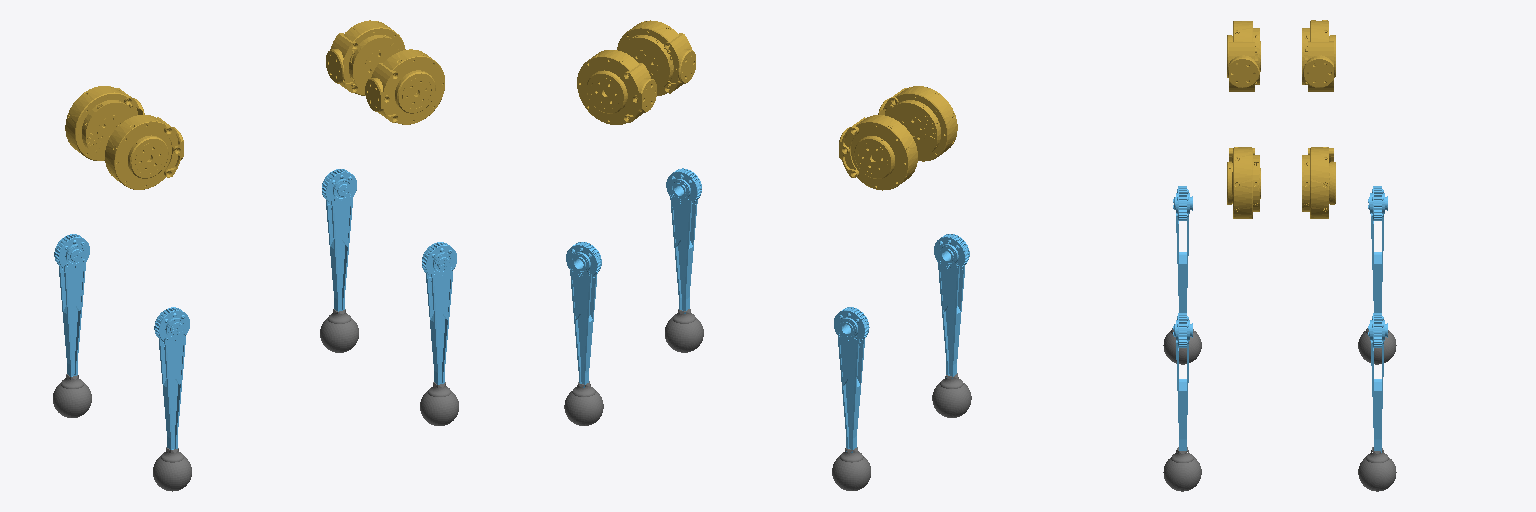
--- Facts derived from the render (not from the file) ---
3 views of the same robot in one strip: view 1: azimuth 30°, elevation 25°; view 2: azimuth 150°, elevation 25°; view 3: azimuth 270°, elevation 25° (orthographic).
Robot: yobotics_description — 25 links, 24 joints (12 revolute, 12 fixed); root link trunk; default pose: all joints at 0.
Visible links, largest first — view 1: RR_hip, FR_hip, FL_hip, RL_hip, RL_calf, RR_calf, FR_calf, FL_calf, RR_foot, FR_foot, FL_foot, RL_foot; view 2: RL_hip, FL_hip, FR_hip, RR_hip, FR_calf, RR_calf, RL_calf, FL_calf, RR_foot, FL_foot, FR_foot, RL_foot; view 3: FL_hip, RL_hip, FR_hip, RR_hip, FL_calf, FR_calf, RL_calf, RR_calf, FR_foot, FL_foot, RR_foot, RL_foot.
Link boxes in pixels (box(x1,y1,x2,y2)): RR_hip: box(105, 115, 183, 189); FR_hip: box(365, 49, 444, 124); FL_hip: box(326, 20, 405, 95); RL_hip: box(65, 86, 144, 160); RL_calf: box(54, 234, 89, 376); RR_calf: box(154, 307, 189, 449); FR_calf: box(422, 242, 456, 384); FL_calf: box(322, 169, 356, 311); RR_foot: box(153, 447, 191, 491); FR_foot: box(420, 382, 458, 425); FL_foot: box(320, 309, 358, 352); RL_foot: box(53, 374, 91, 417); RL_hip: box(839, 115, 917, 190); FL_hip: box(577, 50, 656, 124); FR_hip: box(617, 20, 695, 95); RR_hip: box(878, 86, 957, 161); FR_calf: box(666, 168, 701, 313); RR_calf: box(934, 234, 969, 378); RL_calf: box(834, 307, 869, 452); FL_calf: box(566, 242, 601, 387); RR_foot: box(932, 373, 971, 417); FL_foot: box(564, 381, 603, 425); FR_foot: box(665, 309, 703, 352); RL_foot: box(832, 447, 870, 490); FL_hip: box(1302, 147, 1335, 218); RL_hip: box(1302, 20, 1335, 91); FR_hip: box(1227, 147, 1260, 218); RR_hip: box(1227, 21, 1260, 91); FL_calf: box(1368, 313, 1387, 452); FR_calf: box(1173, 313, 1192, 450); RL_calf: box(1368, 186, 1387, 312); RR_calf: box(1173, 186, 1192, 312); FR_foot: box(1163, 447, 1201, 491); FL_foot: box(1358, 447, 1396, 491); RR_foot: box(1163, 328, 1201, 364); RL_foot: box(1358, 328, 1396, 364).
Bounding box of the posed robot: 0.4859 × 0.3042 × 0.4881 m (x, y, z).
12 mesh visuals loaded from 7 distinct referenced files (3 binary STL); not drawn: 7 (reference not matched to a file when rendering).

The robot description file, URDF, robot "yobotics_description":
<?xml version="1.0" encoding="utf-8"?>
<!-- =================================================================================== -->
<!-- |    This document was autogenerated by xacro from ../xacro/robot.xacro           | -->
<!-- |    EDITING THIS FILE BY HAND IS NOT RECOMMENDED                                 | -->
<!-- =================================================================================== -->
<robot name="yobotics_description">
  <!-- joint limits -->
  <!-- <xacro:property name="damping" value="0"/>
    <xacro:property name="friction" value="0"/>
    <xacro:property name="hip_max" value="120"/>
    <xacro:property name="hip_min" value="-120"/>
    <xacro:property name="hip_velocity_max" value="52.4"/>
    <xacro:property name="hip_torque_max" value="20"/>
    <xacro:property name="thigh_max" value="270"/>
    <xacro:property name="thigh_min" value="-270"/>
    <xacro:property name="thigh_velocity_max" value="28.6"/>
    <xacro:property name="thigh_torque_max" value="55"/>
    <xacro:property name="calf_max" value="155"/>
    <xacro:property name="calf_min" value="-155"/>
    <xacro:property name="calf_velocity_max" value="28.6"/>
    <xacro:property name="calf_torque_max" value="55"/> -->
  <material name="black">
    <color rgba="0.0 0.0 0.0 1.0"/>
  </material>
  <material name="blue">
    <color rgba="0.0 0.0 0.8 1.0"/>
  </material>
  <material name="green">
    <color rgba="0.0 0.8 0.0 1.0"/>
  </material>
  <material name="grey">
    <color rgba="0.2 0.2 0.2 1.0"/>
  </material>
  <material name="silver">
    <color rgba="0.913725490196 0.913725490196 0.847058823529 1.0"/>
  </material>
  <material name="orange">
    <color rgba="1.0 0.423529411765 0.0392156862745 1.0"/>
  </material>
  <material name="brown">
    <color rgba="0.870588235294 0.811764705882 0.764705882353 1.0"/>
  </material>
  <material name="white_gray">
    <color rgba="0.823529411765 0.823529411765 0.823529411765 1.0"/>
  </material>
  <material name="gold">
    <color rgba="0.811764705882 0.678431372549 0.301960784314 1.0"/>
  </material>
  <material name="white_blue">
    <color rgba="0.462745098039 0.8 0.992156862745 1.0"/>
  </material>
  <material name="white_black">
    <color rgba="0.494117647059 0.494117647059 0.494117647059 1.0"/>
  </material>
  <material name="red">
    <color rgba="0.8 0.0 0.0 1.0"/>
  </material>
  <material name="white">
    <color rgba="1.0 1.0 1.0 1.0"/>
  </material>
  <!-- ros_control plugin -->
  <gazebo>
    <plugin filename="libgazebo_ros_control.so" name="gazebo_ros_control">
      <!-- <robotNamespace>/yobotics_gazebo</robotNamespace> -->
      <!-- <robotSimType>gazebo_ros_control/DefaultRobotHWSim</robotSimType> -->
    </plugin>
  </gazebo>
  <!-- Show the trajectory of trunk center. -->
  <gazebo>
    <plugin filename="libLinkPlot3DPlugin.so" name="3dplot">
      <frequency>10</frequency>
      <plot>
        <link>base</link>
        <pose>0 0 0 0 0 0</pose>
        <material>Gazebo/Yellow</material>
      </plot>
    </plugin>
  </gazebo>
  <gazebo>
    <plugin filename="libgazebo_ros_force.so" name="gazebo_ros_force">
      <bodyName>trunk</bodyName>
      <topicName>/apply_force/trunk</topicName>
    </plugin>
  </gazebo>
  <!-- <gazebo reference="imu_link">
        <gravity>true</gravity>
        <sensor name="_sensor" type="imu">
            <always_on>true</always_on>
            <update_rate>1000</update_rate>
            <visualize>true</visualize>
            <topic>__default_topic__</topic>
            <plugin filename="libgazebo_ros_imu_sensor.so" name="imu_plugin">
                <topicName>yobotic_imu</topicName>
                <bodyName>imu_link</bodyName>
                <updateRateHZ>1000.0</updateRateHZ>
                <gaussianNoise>0.0</gaussianNoise>
                <xyzOffset>0 0 0</xyzOffset>
                <rpyOffset>0 0 0</rpyOffset>
                <frameName>imu_link</frameName>
            </plugin>
            <pose>0 0 0 0 0 0</pose>
        </sensor>
    </gazebo> -->
  <gazebo>
    <plugin filename="libgazebo_ros_p3d.so" name="p3d_base_controller">
      <alwaysOn>true</alwaysOn>
      <updateRate>50.0</updateRate>
      <bodyName>trunk</bodyName>
      <topicName>yobotics_gazebo_ground_truth</topicName>
      <gaussianNoise>0.01</gaussianNoise>
      <frameName>world</frameName>
      <xyzOffsets>0 0 0</xyzOffsets>
      <rpyOffsets>0 0 0</rpyOffsets>
    </plugin>
  </gazebo>
  <gazebo>
    <plugin filename="libgazebo_ros_control.so" name="gazebo_ros_control">
      <legacyModeNS>true</legacyModeNS>
    </plugin>
  </gazebo>
  <!-- Foot contacts. -->
  <!-- <gazebo reference="FR_calf">
        <sensor name="FR_foot_contact" type="contact">
        <update_rate>100</update_rate>
        <plugin name="contactPlugin" filename="libyoboticsFootContactPlugin.so"/>
        <contact>
            <collision>FR_calf_fixed_joint_lump__FR_foot_collision_1</collision>
        </contact>
        </sensor>
    </gazebo>
    <gazebo reference="FL_calf">
        <sensor name="FL_foot_contact" type="contact">
        <update_rate>100</update_rate>
        <plugin name="contactPlugin" filename="libyoboticsFootContactPlugin.so"/>
        <contact>
            <collision>FL_calf_fixed_joint_lump__FL_foot_collision_1</collision>
        </contact>
        </sensor>
    </gazebo>
    <gazebo reference="RR_calf">
        <sensor name="RR_foot_contact" type="contact">
        <update_rate>100</update_rate>
        <plugin name="contactPlugin" filename="libyoboticsFootContactPlugin.so"/>
        <contact>
            <collision>RR_calf_fixed_joint_lump__RR_foot_collision_1</collision>
        </contact>
        </sensor>
    </gazebo>
    <gazebo reference="RL_calf">
        <sensor name="RL_foot_contact" type="contact">
        <update_rate>100</update_rate>
        <plugin name="contactPlugin" filename="libyoboticsFootContactPlugin.so"/>
        <contact>
            <collision>RL_calf_fixed_joint_lump__RL_foot_collision_1</collision>
        </contact>
        </sensor>
    </gazebo>   -->
  <!-- Visualization of Foot contacts. -->
  <!-- <gazebo reference="FR_foot">
        <visual>
            <plugin name="drawForcePlugin" filename="libyoboticsDrawForcePlugin.so">
                <topicName>FR_foot_contact</topicName>
            </plugin>
        </visual>
    </gazebo>
    <gazebo reference="FL_foot">
        <visual>
            <plugin name="drawForcePlugin" filename="libyoboticsDrawForcePlugin.so">
                <topicName>FL_foot_contact</topicName>
            </plugin>
        </visual>
    </gazebo>
    <gazebo reference="RR_foot">
        <visual>
            <plugin name="drawForcePlugin" filename="libyoboticsDrawForcePlugin.so">
                <topicName>RR_foot_contact</topicName>
            </plugin>
        </visual>
    </gazebo>
    <gazebo reference="RL_foot">
        <visual>
            <plugin name="drawForcePlugin" filename="libyoboticsDrawForcePlugin.so">
                <topicName>RL_foot_contact</topicName>
            </plugin>
        </visual>
    </gazebo>  -->
  <gazebo reference="base">
    <material>Gazebo/Green</material>
    <turnGravityOff>false</turnGravityOff>
  </gazebo>
  <gazebo reference="trunk">
    <mu1>0.9</mu1>
    <mu2>0.9</mu2>
    <kp value="1000000.0"/>
    <kd value="1.0"/>
  </gazebo>
  <gazebo reference="stick_link">
    <mu1>0.9</mu1>
    <mu2>0.9</mu2>
    <material>Gazebo/White</material>
  </gazebo>
  <gazebo reference="imu_link">
    <mu1>0.9</mu1>
    <mu2>0.9</mu2>
    <material>Gazebo/Red</material>
  </gazebo>
  <!-- FL leg -->
  <gazebo reference="FL_hip">
    <mu1>0.9</mu1>
    <mu2>0.9</mu2>
    <!-- <material>Gazebo/DarkGrey</material> -->
  </gazebo>
  <gazebo reference="FL_thigh">
    <mu1>0.9</mu1>
    <mu2>0.9</mu2>
    <self_collide>1</self_collide>
    <material>Gazebo/White</material>
    <kp value="1000000.0"/>
    <kd value="1.0"/>
  </gazebo>
  <gazebo reference="FL_calf">
    <mu1>0.9</mu1>
    <mu2>0.9</mu2>
    <self_collide>1</self_collide>
  </gazebo>
  <gazebo reference="FL_foot">
    <mu1>0.9</mu1>
    <mu2>0.9</mu2>
    <self_collide>1</self_collide>
    <material>Gazebo/DarkGrey</material>
    <kp value="1000000.0"/>
    <kd value="1.0"/>
  </gazebo>
  <!-- FR leg -->
  <gazebo reference="FR_hip">
    <mu1>0.9</mu1>
    <mu2>0.9</mu2>
    <!-- <material>Gazebo/DarkGrey</material> -->
  </gazebo>
  <gazebo reference="FR_thigh">
    <mu1>0.9</mu1>
    <mu2>0.9</mu2>
    <self_collide>1</self_collide>
    <material>Gazebo/White</material>
    <kp value="1000000.0"/>
    <kd value="1.0"/>
  </gazebo>
  <gazebo reference="FR_calf">
    <mu1>0.9</mu1>
    <mu2>0.9</mu2>
    <self_collide>1</self_collide>
  </gazebo>
  <gazebo reference="FR_foot">
    <mu1>0.9</mu1>
    <mu2>0.9</mu2>
    <self_collide>1</self_collide>
    <material>Gazebo/DarkGrey</material>
    <kp value="1000000.0"/>
    <kd value="1.0"/>
  </gazebo>
  <!-- RL leg -->
  <gazebo reference="RL_hip">
    <mu1>0.9</mu1>
    <mu2>0.9</mu2>
    <!-- <material>Gazebo/DarkGrey</material> -->
  </gazebo>
  <gazebo reference="RL_thigh">
    <mu1>0.9</mu1>
    <mu2>0.9</mu2>
    <self_collide>1</self_collide>
    <material>Gazebo/White</material>
    <kp value="1000000.0"/>
    <kd value="1.0"/>
  </gazebo>
  <gazebo reference="RL_calf">
    <mu1>0.9</mu1>
    <mu2>0.9</mu2>
    <self_collide>1</self_collide>
  </gazebo>
  <gazebo reference="RL_foot">
    <mu1>0.9</mu1>
    <mu2>0.9</mu2>
    <self_collide>1</self_collide>
    <material>Gazebo/DarkGrey</material>
    <kp value="1000000.0"/>
    <kd value="1.0"/>
  </gazebo>
  <!-- RR leg -->
  <gazebo reference="RR_hip">
    <mu1>0.9</mu1>
    <mu2>0.9</mu2>
    <!-- <material>Gazebo/Gold</material> -->
  </gazebo>
  <gazebo reference="RR_thigh">
    <mu1>0.9</mu1>
    <mu2>0.9</mu2>
    <self_collide>1</self_collide>
    <material>Gazebo/White</material>
    <kp value="1000000.0"/>
    <kd value="1.0"/>
  </gazebo>
  <gazebo reference="RR_calf">
    <mu1>0.9</mu1>
    <mu2>0.9</mu2>
    <self_collide>1</self_collide>
  </gazebo>
  <gazebo reference="RR_foot">
    <mu1>0.9</mu1>
    <mu2>0.9</mu2>
    <self_collide>1</self_collide>
    <material>Gazebo/DarkGrey</material>
    <kp value="1000000.0"/>
    <kd value="1.0"/>
  </gazebo>
  <!-- Debug mode will hung up the robot, use "true" or "false" to switch it. -->
  <!-- <link name="base_link">
        <visual>
            <origin rpy="0 0 0" xyz="0 0 0"/>
            <geometry>
                <box size="0.001 0.001 0.001"/>
            </geometry>
        </visual>
    </link>

    <joint name="floating_base" type="fixed">
        <origin rpy="0 0 0" xyz="0 0 0"/>
        <parent link="base_link"/>
        <child link="trunk"/>
    </joint> -->
  <link name="trunk"/>
  <link name="trunk_interia">
    <visual>
      <origin rpy="0 0 0" xyz="0 0 0"/>
      <geometry>
        <mesh filename="package://yobotics_description/meshes/trunk.STL" scale="1 1 1"/>
      </geometry>
      <material name="white_gray"/>
    </visual>
    <collision>
      <origin rpy="0 0 0" xyz="0 0 0"/>
      <geometry>
        <!-- <mesh filename="package://yobotics_description/meshes/trunk.STL" scale="1 1 1"/> -->
        <box size="0.3 0.2 0.093"/>
      </geometry>
    </collision>
    <inertial>
      <origin rpy="0 0 0" xyz="0.0 0.0 0.0"/>
      <mass value="3.3"/>
      <inertia ixx="0.011253" ixy="0" ixz="0.0" iyy="0.036203" iyz="-0.0" izz="0.042673"/>
    </inertial>
  </link>
  <joint name="trunk_to_trunk_inertia" type="fixed">
    <origin rpy="0 0 0" xyz="0 0 0"/>
    <parent link="trunk"/>
    <child link="trunk_interia"/>
  </joint>
  <!-- 
    <joint name="imu_joint" type="fixed">
        <parent link="trunk"/>
        <child link="imu_link"/>
        <origin rpy="0 0 0" xyz="0 0 0"/>
    </joint>

    <link name="imu_link">
        <inertial>
            <mass value="0.001"/>
            <origin rpy="0 0 0" xyz="0 0 0"/>
            <inertia ixx="0.0001" ixy="0" ixz="0" iyy="0.000001" iyz="0" izz="0.0001"/>
        </inertial>
        <visual>
            <origin rpy="0 0 0" xyz="0 0 0"/>
            <geometry>
                <box size="0.001 0.001 0.001"/>
            </geometry>
            <material name="red"/>
        </visual>
        <collision>
            <origin rpy="0 0 0" xyz="0 0 0"/>
            <geometry>
                <box size=".001 .001 .001"/>
            </geometry>
        </collision>
    </link> -->
  <!-- //////////////////////hip//////////////////// -->
  <joint name="RL_hip_joint" type="revolute">
    <!-- <joint name="${name}_hip_joint" type="continuous"> -->
    <origin rpy="0 0 0" xyz="-0.196 0.049664 0"/>
    <parent link="trunk"/>
    <child link="RL_hip"/>
    <axis xyz="1 0 0"/>
    <dynamics damping="0" friction="0"/>
    <limit effort="20" lower="-0.872664625997" upper="1.0471975512" velocity="10.6"/>
  </joint>
  <link name="RL_hip">
    <visual>
      <origin rpy="3.14159265359 0 0" xyz="0 0 0"/>
      <geometry>
        <mesh filename="package://yobotics_description/meshes/hip.STL" scale="1 1 1"/>
      </geometry>
      <material name="gold"/>
    </visual>
    <collision>
      <!-- <origin rpy="${PI/2.0} 0 0" xyz="0 0 0"/> -->
      <!-- <xacro:if value="${(mirror_dae == True) and (front_hind_dae == True)}">
                    <origin rpy="0 0 0" xyz="0 0 0"/>
                </xacro:if>
                <xacro:if value="${(mirror_dae == False) and (front_hind_dae == True)}">
                    <origin rpy="${PI} 0 0" xyz="0 0 0"/>
                </xacro:if>
                <xacro:if value="${(mirror_dae == True) and (front_hind_dae == False)}">
                    <origin rpy="0 ${PI} 0" xyz="0 0 0"/>
                </xacro:if>
                <xacro:if value="${(mirror_dae == False) and (front_hind_dae == False)}">
                    <origin rpy="${PI} ${PI} 0" xyz="0 0 0"/>
                </xacro:if> -->
      <geometry>
        <!-- <mesh filename="package://yobotics_description/meshes/hip.STL" scale="1 1 1"/> -->
        <box size="0.09 0.08 0.093"/>
      </geometry>
    </collision>
    <inertial>
      <origin rpy="0 0 0" xyz="0.0 -0.036 0.0"/>
      <mass value="0.57"/>
      <inertia ixx="0.0007148275" ixy="0.0" ixz="0.0" iyy="0.0007955775" iyz="0.0" izz="0.00068875"/>
    </inertial>
  </link>
  <!-- //////////////////////thigh//////////////////// -->
  <joint name="RL_thigh_joint" type="revolute">
    <!-- <joint name="${name}_thigh_joint" type="continuous"> -->
    <origin rpy="0 0 0" xyz="0 0.077476 0"/>
    <parent link="RL_hip"/>
    <child link="RL_thigh"/>
    <axis xyz="0 1 0"/>
    <dynamics damping="0" friction="0"/>
    <limit effort="20" lower="-0.523598775598" upper="3.92699081699" velocity="10.6"/>
  </joint>
  <link name="RL_thigh">
    <visual>
      <origin rpy="3.14159265359 3.14159265359 0" xyz="0 0 0"/>
      <geometry>
        <mesh filename="package://yobotics_description/meshes/thigh.STL" scale="1 1 1"/>
      </geometry>
      <material name="white_blue"/>
    </visual>
    <collision>
      <!-- <xacro:if value="${mirror_dae == True}">
                    <origin rpy="0 0 0" xyz="0 0 0"/>                 
                </xacro:if>
                <xacro:if value="${mirror_dae == False}">
                    <origin rpy="${PI} ${PI} 0" xyz="0 0 0"/>
                </xacro:if> -->
      <origin rpy="0 0 0" xyz="0 0 -0.11"/>
      <geometry>
        <box size="0.043 0.034 0.22"/>
        <!-- <mesh filename="package://yobotics_description/meshes/thigh.STL" scale="1 1 1"/> -->
      </geometry>
      <material name="white_blue"/>
    </collision>
    <inertial>
      <origin rpy="0 0 0" xyz="0.0 -0.016 -0.11"/>
      <mass value="0.634"/>
      <inertia ixx="0.00261820866667" ixy="0.0" ixz="0.0" iyy="0.00265482216667" iyz="0.0" izz="0.000158764166667"/>
    </inertial>
  </link>
  <!-- //////////////////////calf//////////////////// -->
  <joint name="RL_calf_joint" type="revolute">
    <!-- <joint name="${name}_calf_joint" type="continuous"> -->
    <origin rpy="0 0 0" xyz="0 0 -0.2115"/>
    <parent link="RL_thigh"/>
    <child link="RL_calf"/>
    <axis xyz="0 1 0"/>
    <dynamics damping="0" friction="0"/>
    <!-- <limit effort="${calf_torque_max}" velocity="${calf_velocity_max}" lower="${calf_min*PI/180.0}" upper="${calf_max*PI/180.0}"/> -->
    <limit effort="20" lower="-3.14159265359" upper="3.14159265359" velocity="10.6"/>
  </joint>
  <link name="RL_calf">
    <visual>
      <origin rpy="0 0 0" xyz="0.0 0.009 0.0"/>
      <geometry>
        <mesh filename="package://yobotics_description/meshes/calf.STL" scale="1 1 1"/>
      </geometry>
      <material name="white_blue"/>
    </visual>
    <collision>
      <origin rpy="0 0 0" xyz="0.0 0.0 -0.1"/>
      <geometry>
        <box size="0.016 0.016 0.2"/>
        <!-- <mesh filename="package://yobotics_description/meshes/calf.STL" scale="1 1 1"/> -->
      </geometry>
    </collision>
    <inertial>
      <origin rpy="0 0 0" xyz="0.0 0.0 0.0"/>
      <mass value="0.064"/>
      <inertia ixx="0.000214698666667" ixy="0.0" ixz="0.0" iyy="0.000214698666667" iyz="0.0" izz="2.73066666667e-06"/>
    </inertial>
  </link>
  <!-- //////////////////////foot//////////////////// -->
  <joint name="RL_foot_fixed" type="fixed">
    <origin rpy="0 0 0" xyz="0 0 -0.23039"/>
    <parent link="RL_calf"/>
    <child link="RL_foot"/>
  </joint>
  <link name="RL_foot">
    <visual>
      <origin rpy="0 0 0" xyz="0 0.018 0.02"/>
      <geometry>
        <mesh filename="package://yobotics_description/meshes/foot.STL" scale="1 1 1"/>
      </geometry>
      <material name="white_black"/>
    </visual>
    <collision>
      <origin rpy="0 0 0" xyz="0 0.0 0.025"/>
      <geometry>
        <!-- <mesh filename="package://yobotics_description/meshes/foot.STL" scale="1 1 1"/> -->
        <sphere radius="0.025"/>
      </geometry>
    </collision>
    <inertial>
      <origin rpy="0 0 0" xyz="0.0 0.0 0"/>
      <mass value="0.15"/>
      <inertia ixx="4.2135e-05" ixy="0.0" ixz="0.0" iyy="4.2135e-05" iyz="0.0" izz="4.2135e-05"/>
    </inertial>
  </link>
  <transmission name="RL_hip_tran">
    <type>transmission_interface/SimpleTransmission</type>
    <joint name="RL_hip_joint">
      <hardwareInterface>hardware_interface/EffortJointInterface</hardwareInterface>
    </joint>
    <actuator name="RL_hip_motor">
      <hardwareInterface>hardware_interface/EffortJointInterface</hardwareInterface>
      <mechanicalReduction>1</mechanicalReduction>
    </actuator>
  </transmission>
  <transmission name="RL_thigh_tran">
    <type>transmission_interface/SimpleTransmission</type>
    <joint name="RL_thigh_joint">
      <hardwareInterface>hardware_interface/EffortJointInterface</hardwareInterface>
    </joint>
    <actuator name="RL_thigh_motor">
      <hardwareInterface>hardware_interface/EffortJointInterface</hardwareInterface>
      <mechanicalReduction>1</mechanicalReduction>
    </actuator>
  </transmission>
  <transmission name="RL_calf_tran">
    <type>transmission_interface/SimpleTransmission</type>
    <joint name="RL_calf_joint">
      <hardwareInterface>hardware_interface/EffortJointInterface</hardwareInterface>
    </joint>
    <actuator name="RL_calf_motor">
      <hardwareInterface>hardware_interface/EffortJointInterface</hardwareInterface>
      <mechanicalReduction>1</mechanicalReduction>
    </actuator>
  </transmission>
  <!-- //////////////////////hip//////////////////// -->
  <joint name="FL_hip_joint" type="revolute">
    <!-- <joint name="${name}_hip_joint" type="continuous"> -->
    <origin rpy="0 0 0" xyz="0.196 0.049664 0"/>
    <parent link="trunk"/>
    <child link="FL_hip"/>
    <axis xyz="1 0 0"/>
    <dynamics damping="0" friction="0"/>
    <limit effort="20" lower="-0.872664625997" upper="1.0471975512" velocity="10.6"/>
  </joint>
  <link name="FL_hip">
    <visual>
      <origin rpy="3.14159265359 3.14159265359 0" xyz="0 0 0"/>
      <geometry>
        <mesh filename="package://yobotics_description/meshes/hip.STL" scale="1 1 1"/>
      </geometry>
      <material name="gold"/>
    </visual>
    <collision>
      <!-- <origin rpy="${PI/2.0} 0 0" xyz="0 0 0"/> -->
      <!-- <xacro:if value="${(mirror_dae == True) and (front_hind_dae == True)}">
                    <origin rpy="0 0 0" xyz="0 0 0"/>
                </xacro:if>
                <xacro:if value="${(mirror_dae == False) and (front_hind_dae == True)}">
                    <origin rpy="${PI} 0 0" xyz="0 0 0"/>
                </xacro:if>
                <xacro:if value="${(mirror_dae == True) and (front_hind_dae == False)}">
                    <origin rpy="0 ${PI} 0" xyz="0 0 0"/>
                </xacro:if>
                <xacro:if value="${(mirror_dae == False) and (front_hind_dae == False)}">
                    <origin rpy="${PI} ${PI} 0" xyz="0 0 0"/>
                </xacro:if> -->
      <geometry>
        <!-- <mesh filename="package://yobotics_description/meshes/hip.STL" scale="1 1 1"/> -->
        <box size="0.09 0.08 0.093"/>
      </geometry>
    </collision>
    <inertial>
      <origin rpy="0 0 0" xyz="-0.0 -0.036 0.0"/>
      <mass value="0.57"/>
      <inertia ixx="0.0007148275" ixy="0.0" ixz="0.0" iyy="0.0007955775" iyz="0.0" izz="0.00068875"/>
    </inertial>
  </link>
  <!-- //////////////////////thigh//////////////////// -->
  <joint name="FL_thigh_joint" type="revolute">
    <!-- <joint name="${name}_thigh_joint" type="continuous"> -->
    <origin rpy="0 0 0" xyz="0 0.077476 0"/>
    <parent link="FL_hip"/>
    <child link="FL_thigh"/>
    <axis xyz="0 1 0"/>
    <dynamics damping="0" friction="0"/>
    <limit effort="20" lower="-0.523598775598" upper="3.92699081699" velocity="10.6"/>
  </joint>
  <link name="FL_thigh">
    <visual>
      <origin rpy="3.14159265359 3.14159265359 0" xyz="0 0 0"/>
      <geometry>
        <mesh filename="package://yobotics_description/meshes/thigh.STL" scale="1 1 1"/>
      </geometry>
      <material name="white_blue"/>
    </visual>
    <collision>
      <!-- <xacro:if value="${mirror_dae == True}">
                    <origin rpy="0 0 0" xyz="0 0 0"/>                 
                </xacro:if>
                <xacro:if value="${mirror_dae == False}">
                    <origin rpy="${PI} ${PI} 0" xyz="0 0 0"/>
                </xacro:if> -->
      <origin rpy="0 0 0" xyz="0 0 -0.11"/>
      <geometry>
        <box size="0.043 0.034 0.22"/>
        <!-- <mesh filename="package://yobotics_description/meshes/thigh.STL" scale="1 1 1"/> -->
      </geometry>
      <material name="white_blue"/>
    </collision>
    <inertial>
      <origin rpy="0 0 0" xyz="0.0 -0.016 -0.11"/>
      <mass value="0.634"/>
      <inertia ixx="0.00261820866667" ixy="0.0" ixz="0.0" iyy="0.00265482216667" iyz="0.0" izz="0.000158764166667"/>
    </inertial>
  </link>
  <!-- //////////////////////calf//////////////////// -->
  <joint name="FL_calf_joint" type="revolute">
    <!-- <joint name="${name}_calf_joint" type="continuous"> -->
    <origin rpy="0 0 0" xyz="0 0 -0.2115"/>
    <parent link="FL_thigh"/>
    <child link="FL_calf"/>
    <axis xyz="0 1 0"/>
    <dynamics damping="0" friction="0"/>
    <!-- <limit effort="${calf_torque_max}" velocity="${calf_velocity_max}" lower="${calf_min*PI/180.0}" upper="${calf_max*PI/180.0}"/> -->
    <limit effort="20" lower="-3.14159265359" upper="3.14159265359" velocity="10.6"/>
  </joint>
  <link name="FL_calf">
    <visual>
      <origin rpy="0 0 0" xyz="0.0 0.009 0.0"/>
      <geometry>
        <mesh filename="package://yobotics_description/meshes/calf.STL" scale="1 1 1"/>
      </geometry>
      <material name="white_blue"/>
    </visual>
    <collision>
      <origin rpy="0 0 0" xyz="0.0 0.0 -0.1"/>
      <geometry>
        <box size="0.016 0.016 0.2"/>
        <!-- <mesh filename="package://yobotics_description/meshes/calf.STL" scale="1 1 1"/> -->
      </geometry>
    </collision>
    <inertial>
      <origin rpy="0 0 0" xyz="0.0 0.0 0.0"/>
      <mass value="0.064"/>
      <inertia ixx="0.000214698666667" ixy="0.0" ixz="0.0" iyy="0.000214698666667" iyz="0.0" izz="2.73066666667e-06"/>
    </inertial>
  </link>
  <!-- //////////////////////foot//////////////////// -->
  <joint name="FL_foot_fixed" type="fixed">
    <origin rpy="0 0 0" xyz="0 0 -0.23039"/>
    <parent link="FL_calf"/>
    <child link="FL_foot"/>
  </joint>
  <link name="FL_foot">
    <visual>
      <origin rpy="0 0 0" xyz="0 0.018 0.02"/>
      <geometry>
        <mesh filename="package://yobotics_description/meshes/foot.STL" scale="1 1 1"/>
      </geometry>
      <material name="white_black"/>
    </visual>
    <collision>
      <origin rpy="0 0 0" xyz="0 0.0 0.025"/>
      <geometry>
        <!-- <mesh filename="package://yobotics_description/meshes/foot.STL" scale="1 1 1"/> -->
        <sphere radius="0.025"/>
      </geometry>
    </collision>
    <inertial>
      <origin rpy="0 0 0" xyz="0.0 0.0 0"/>
      <mass value="0.15"/>
      <inertia ixx="4.2135e-05" ixy="0.0" ixz="0.0" iyy="4.2135e-05" iyz="0.0" izz="4.2135e-05"/>
    </inertial>
  </link>
  <transmission name="FL_hip_tran">
    <type>transmission_interface/SimpleTransmission</type>
    <joint name="FL_hip_joint">
      <hardwareInterface>hardware_interface/EffortJointInterface</hardwareInterface>
    </joint>
    <actuator name="FL_hip_motor">
      <hardwareInterface>hardware_interface/EffortJointInterface</hardwareInterface>
      <mechanicalReduction>1</mechanicalReduction>
    </actuator>
  </transmission>
  <transmission name="FL_thigh_tran">
    <type>transmission_interface/SimpleTransmission</type>
    <joint name="FL_thigh_joint">
      <hardwareInterface>hardware_interface/EffortJointInterface</hardwareInterface>
    </joint>
    <actuator name="FL_thigh_motor">
      <hardwareInterface>hardware_interface/EffortJointInterface</hardwareInterface>
      <mechanicalReduction>1</mechanicalReduction>
    </actuator>
  </transmission>
  <transmission name="FL_calf_tran">
    <type>transmission_interface/SimpleTransmission</type>
    <joint name="FL_calf_joint">
      <hardwareInterface>hardware_interface/EffortJointInterface</hardwareInterface>
    </joint>
    <actuator name="FL_calf_motor">
      <hardwareInterface>hardware_interface/EffortJointInterface</hardwareInterface>
      <mechanicalReduction>1</mechanicalReduction>
    </actuator>
  </transmission>
  <!-- //////////////////////hip//////////////////// -->
  <joint name="RR_hip_joint" type="revolute">
    <!-- <joint name="${name}_hip_joint" type="continuous"> -->
    <origin rpy="0 0 0" xyz="-0.196 -0.049664 0"/>
    <parent link="trunk"/>
    <child link="RR_hip"/>
    <axis xyz="1 0 0"/>
    <dynamics damping="0" friction="0"/>
    <limit effort="20" lower="-1.0471975512" upper="0.872664625997" velocity="10.6"/>
  </joint>
  <link name="RR_hip">
    <visual>
      <origin rpy="0 0 0" xyz="0 0 0"/>
      <geometry>
        <mesh filename="package://yobotics_description/meshes/hip.STL" scale="1 1 1"/>
      </geometry>
      <material name="gold"/>
    </visual>
    <collision>
      <!-- <origin rpy="${PI/2.0} 0 0" xyz="0 0 0"/> -->
      <!-- <xacro:if value="${(mirror_dae == True) and (front_hind_dae == True)}">
                    <origin rpy="0 0 0" xyz="0 0 0"/>
                </xacro:if>
                <xacro:if value="${(mirror_dae == False) and (front_hind_dae == True)}">
                    <origin rpy="${PI} 0 0" xyz="0 0 0"/>
                </xacro:if>
                <xacro:if value="${(mirror_dae == True) and (front_hind_dae == False)}">
                    <origin rpy="0 ${PI} 0" xyz="0 0 0"/>
                </xacro:if>
                <xacro:if value="${(mirror_dae == False) and (front_hind_dae == False)}">
                    <origin rpy="${PI} ${PI} 0" xyz="0 0 0"/>
                </xacro:if> -->
      <geometry>
        <!-- <mesh filename="package://yobotics_description/meshes/hip.STL" scale="1 1 1"/> -->
        <box size="0.09 0.08 0.093"/>
      </geometry>
    </collision>
    <inertial>
      <origin rpy="0 0 0" xyz="0.0 0.036 0.0"/>
      <mass value="0.57"/>
      <inertia ixx="0.0007148275" ixy="0.0" ixz="0.0" iyy="0.0007955775" iyz="0.0" izz="0.00068875"/>
    </inertial>
  </link>
  <!-- //////////////////////thigh//////////////////// -->
  <joint name="RR_thigh_joint" type="revolute">
    <!-- <joint name="${name}_thigh_joint" type="continuous"> -->
    <origin rpy="0 0 0" xyz="0 -0.077476 0"/>
    <parent link="RR_hip"/>
    <child link="RR_thigh"/>
    <axis xyz="0 1 0"/>
    <dynamics damping="0" friction="0"/>
    <limit effort="20" lower="-0.523598775598" upper="3.92699081699" velocity="10.6"/>
  </joint>
  <link name="RR_thigh">
    <visual>
      <origin rpy="0 0 0" xyz="0 0 0"/>
      <geometry>
        <mesh filename="package://yobotics_description/meshes/thigh.STL" scale="1 1 1"/>
      </geometry>
      <material name="white_blue"/>
    </visual>
    <collision>
      <!-- <xacro:if value="${mirror_dae == True}">
                    <origin rpy="0 0 0" xyz="0 0 0"/>                 
                </xacro:if>
                <xacro:if value="${mirror_dae == False}">
                    <origin rpy="${PI} ${PI} 0" xyz="0 0 0"/>
                </xacro:if> -->
      <origin rpy="0 0 0" xyz="0 0 -0.11"/>
      <geometry>
        <box size="0.043 0.034 0.22"/>
        <!-- <mesh filename="package://yobotics_description/meshes/thigh.STL" scale="1 1 1"/> -->
      </geometry>
      <material name="white_blue"/>
    </collision>
    <inertial>
      <origin rpy="0 0 0" xyz="0.0 0.016 -0.11"/>
      <mass value="0.634"/>
      <inertia ixx="0.00261820866667" ixy="0.0" ixz="0.0" iyy="0.00265482216667" iyz="0.0" izz="0.000158764166667"/>
    </inertial>
  </link>
  <!-- //////////////////////calf//////////////////// -->
  <joint name="RR_calf_joint" type="revolute">
    <!-- <joint name="${name}_calf_joint" type="continuous"> -->
    <origin rpy="0 0 0" xyz="0 0 -0.2115"/>
    <parent link="RR_thigh"/>
    <child link="RR_calf"/>
    <axis xyz="0 1 0"/>
    <dynamics damping="0" friction="0"/>
    <!-- <limit effort="${calf_torque_max}" velocity="${calf_velocity_max}" lower="${calf_min*PI/180.0}" upper="${calf_max*PI/180.0}"/> -->
    <limit effort="20" lower="-3.14159265359" upper="3.14159265359" velocity="10.6"/>
  </joint>
  <link name="RR_calf">
    <visual>
      <origin rpy="0 0 0" xyz="0.0 0.009 0.0"/>
      <geometry>
        <mesh filename="package://yobotics_description/meshes/calf.STL" scale="1 1 1"/>
      </geometry>
      <material name="white_blue"/>
    </visual>
    <collision>
      <origin rpy="0 0 0" xyz="0.0 0.0 -0.1"/>
      <geometry>
        <box size="0.016 0.016 0.2"/>
        <!-- <mesh filename="package://yobotics_description/meshes/calf.STL" scale="1 1 1"/> -->
      </geometry>
    </collision>
    <inertial>
      <origin rpy="0 0 0" xyz="0.0 0.0 0.0"/>
      <mass value="0.064"/>
      <inertia ixx="0.000214698666667" ixy="0.0" ixz="0.0" iyy="0.000214698666667" iyz="0.0" izz="2.73066666667e-06"/>
    </inertial>
  </link>
  <!-- //////////////////////foot//////////////////// -->
  <joint name="RR_foot_fixed" type="fixed">
    <origin rpy="0 0 0" xyz="0 0 -0.23039"/>
    <parent link="RR_calf"/>
    <child link="RR_foot"/>
  </joint>
  <link name="RR_foot">
    <visual>
      <origin rpy="0 0 0" xyz="0 0.018 0.02"/>
      <geometry>
        <mesh filename="package://yobotics_description/meshes/foot.STL" scale="1 1 1"/>
      </geometry>
      <material name="white_black"/>
    </visual>
    <collision>
      <origin rpy="0 0 0" xyz="0 0.0 0.025"/>
      <geometry>
        <!-- <mesh filename="package://yobotics_description/meshes/foot.STL" scale="1 1 1"/> -->
        <sphere radius="0.025"/>
      </geometry>
    </collision>
    <inertial>
      <origin rpy="0 0 0" xyz="0.0 0.0 0"/>
      <mass value="0.15"/>
      <inertia ixx="4.2135e-05" ixy="0.0" ixz="0.0" iyy="4.2135e-05" iyz="0.0" izz="4.2135e-05"/>
    </inertial>
  </link>
  <transmission name="RR_hip_tran">
    <type>transmission_interface/SimpleTransmission</type>
    <joint name="RR_hip_joint">
      <hardwareInterface>hardware_interface/EffortJointInterface</hardwareInterface>
    </joint>
    <actuator name="RR_hip_motor">
      <hardwareInterface>hardware_interface/EffortJointInterface</hardwareInterface>
      <mechanicalReduction>1</mechanicalReduction>
    </actuator>
  </transmission>
  <transmission name="RR_thigh_tran">
    <type>transmission_interface/SimpleTransmission</type>
    <joint name="RR_thigh_joint">
      <hardwareInterface>hardware_interface/EffortJointInterface</hardwareInterface>
    </joint>
    <actuator name="RR_thigh_motor">
      <hardwareInterface>hardware_interface/EffortJointInterface</hardwareInterface>
      <mechanicalReduction>1</mechanicalReduction>
    </actuator>
  </transmission>
  <transmission name="RR_calf_tran">
    <type>transmission_interface/SimpleTransmission</type>
    <joint name="RR_calf_joint">
      <hardwareInterface>hardware_interface/EffortJointInterface</hardwareInterface>
    </joint>
    <actuator name="RR_calf_motor">
      <hardwareInterface>hardware_interface/EffortJointInterface</hardwareInterface>
      <mechanicalReduction>1</mechanicalReduction>
    </actuator>
  </transmission>
  <!-- //////////////////////hip//////////////////// -->
  <joint name="FR_hip_joint" type="revolute">
    <!-- <joint name="${name}_hip_joint" type="continuous"> -->
    <origin rpy="0 0 0" xyz="0.196 -0.049664 0"/>
    <parent link="trunk"/>
    <child link="FR_hip"/>
    <axis xyz="1 0 0"/>
    <dynamics damping="0" friction="0"/>
    <limit effort="20" lower="-1.0471975512" upper="0.872664625997" velocity="10.6"/>
  </joint>
  <link name="FR_hip">
    <visual>
      <origin rpy="0 3.14159265359 0" xyz="0 0 0"/>
      <geometry>
        <mesh filename="package://yobotics_description/meshes/hip.STL" scale="1 1 1"/>
      </geometry>
      <material name="gold"/>
    </visual>
    <collision>
      <!-- <origin rpy="${PI/2.0} 0 0" xyz="0 0 0"/> -->
      <!-- <xacro:if value="${(mirror_dae == True) and (front_hind_dae == True)}">
                    <origin rpy="0 0 0" xyz="0 0 0"/>
                </xacro:if>
                <xacro:if value="${(mirror_dae == False) and (front_hind_dae == True)}">
                    <origin rpy="${PI} 0 0" xyz="0 0 0"/>
                </xacro:if>
                <xacro:if value="${(mirror_dae == True) and (front_hind_dae == False)}">
                    <origin rpy="0 ${PI} 0" xyz="0 0 0"/>
                </xacro:if>
                <xacro:if value="${(mirror_dae == False) and (front_hind_dae == False)}">
                    <origin rpy="${PI} ${PI} 0" xyz="0 0 0"/>
                </xacro:if> -->
      <geometry>
        <!-- <mesh filename="package://yobotics_description/meshes/hip.STL" scale="1 1 1"/> -->
        <box size="0.09 0.08 0.093"/>
      </geometry>
    </collision>
    <inertial>
      <origin rpy="0 0 0" xyz="-0.0 0.036 0.0"/>
      <mass value="0.57"/>
      <inertia ixx="0.0007148275" ixy="0.0" ixz="0.0" iyy="0.0007955775" iyz="0.0" izz="0.00068875"/>
    </inertial>
  </link>
  <!-- //////////////////////thigh//////////////////// -->
  <joint name="FR_thigh_joint" type="revolute">
    <!-- <joint name="${name}_thigh_joint" type="continuous"> -->
    <origin rpy="0 0 0" xyz="0 -0.077476 0"/>
    <parent link="FR_hip"/>
    <child link="FR_thigh"/>
    <axis xyz="0 1 0"/>
    <dynamics damping="0" friction="0"/>
    <limit effort="20" lower="-0.523598775598" upper="3.92699081699" velocity="10.6"/>
  </joint>
  <link name="FR_thigh">
    <visual>
      <origin rpy="0 0 0" xyz="0 0 0"/>
      <geometry>
        <mesh filename="package://yobotics_description/meshes/thigh.STL" scale="1 1 1"/>
      </geometry>
      <material name="white_blue"/>
    </visual>
    <collision>
      <!-- <xacro:if value="${mirror_dae == True}">
                    <origin rpy="0 0 0" xyz="0 0 0"/>                 
                </xacro:if>
                <xacro:if value="${mirror_dae == False}">
                    <origin rpy="${PI} ${PI} 0" xyz="0 0 0"/>
                </xacro:if> -->
      <origin rpy="0 0 0" xyz="0 0 -0.11"/>
      <geometry>
        <box size="0.043 0.034 0.22"/>
        <!-- <mesh filename="package://yobotics_description/meshes/thigh.STL" scale="1 1 1"/> -->
      </geometry>
      <material name="white_blue"/>
    </collision>
    <inertial>
      <origin rpy="0 0 0" xyz="0.0 0.016 -0.11"/>
      <mass value="0.634"/>
      <inertia ixx="0.00261820866667" ixy="0.0" ixz="0.0" iyy="0.00265482216667" iyz="0.0" izz="0.000158764166667"/>
    </inertial>
  </link>
  <!-- //////////////////////calf//////////////////// -->
  <joint name="FR_calf_joint" type="revolute">
    <!-- <joint name="${name}_calf_joint" type="continuous"> -->
    <origin rpy="0 0 0" xyz="0 0 -0.2115"/>
    <parent link="FR_thigh"/>
    <child link="FR_calf"/>
    <axis xyz="0 1 0"/>
    <dynamics damping="0" friction="0"/>
    <!-- <limit effort="${calf_torque_max}" velocity="${calf_velocity_max}" lower="${calf_min*PI/180.0}" upper="${calf_max*PI/180.0}"/> -->
    <limit effort="20" lower="-3.14159265359" upper="3.14159265359" velocity="10.6"/>
  </joint>
  <link name="FR_calf">
    <visual>
      <origin rpy="0 0 0" xyz="0.0 0.009 0.0"/>
      <geometry>
        <mesh filename="package://yobotics_description/meshes/calf.STL" scale="1 1 1"/>
      </geometry>
      <material name="white_blue"/>
    </visual>
    <collision>
      <origin rpy="0 0 0" xyz="0.0 0.0 -0.1"/>
      <geometry>
        <box size="0.016 0.016 0.2"/>
        <!-- <mesh filename="package://yobotics_description/meshes/calf.STL" scale="1 1 1"/> -->
      </geometry>
    </collision>
    <inertial>
      <origin rpy="0 0 0" xyz="0.0 0.0 0.0"/>
      <mass value="0.064"/>
      <inertia ixx="0.000214698666667" ixy="0.0" ixz="0.0" iyy="0.000214698666667" iyz="0.0" izz="2.73066666667e-06"/>
    </inertial>
  </link>
  <!-- //////////////////////foot//////////////////// -->
  <joint name="FR_foot_fixed" type="fixed">
    <origin rpy="0 0 0" xyz="0 0 -0.23039"/>
    <parent link="FR_calf"/>
    <child link="FR_foot"/>
  </joint>
  <link name="FR_foot">
    <visual>
      <origin rpy="0 0 0" xyz="0 0.018 0.02"/>
      <geometry>
        <mesh filename="package://yobotics_description/meshes/foot.STL" scale="1 1 1"/>
      </geometry>
      <material name="white_black"/>
    </visual>
    <collision>
      <origin rpy="0 0 0" xyz="0 0.0 0.025"/>
      <geometry>
        <!-- <mesh filename="package://yobotics_description/meshes/foot.STL" scale="1 1 1"/> -->
        <sphere radius="0.025"/>
      </geometry>
    </collision>
    <inertial>
      <origin rpy="0 0 0" xyz="0.0 0.0 0"/>
      <mass value="0.15"/>
      <inertia ixx="4.2135e-05" ixy="0.0" ixz="0.0" iyy="4.2135e-05" iyz="0.0" izz="4.2135e-05"/>
    </inertial>
  </link>
  <transmission name="FR_hip_tran">
    <type>transmission_interface/SimpleTransmission</type>
    <joint name="FR_hip_joint">
      <hardwareInterface>hardware_interface/EffortJointInterface</hardwareInterface>
    </joint>
    <actuator name="FR_hip_motor">
      <hardwareInterface>hardware_interface/EffortJointInterface</hardwareInterface>
      <mechanicalReduction>1</mechanicalReduction>
    </actuator>
  </transmission>
  <transmission name="FR_thigh_tran">
    <type>transmission_interface/SimpleTransmission</type>
    <joint name="FR_thigh_joint">
      <hardwareInterface>hardware_interface/EffortJointInterface</hardwareInterface>
    </joint>
    <actuator name="FR_thigh_motor">
      <hardwareInterface>hardware_interface/EffortJointInterface</hardwareInterface>
      <mechanicalReduction>1</mechanicalReduction>
    </actuator>
  </transmission>
  <transmission name="FR_calf_tran">
    <type>transmission_interface/SimpleTransmission</type>
    <joint name="FR_calf_joint">
      <hardwareInterface>hardware_interface/EffortJointInterface</hardwareInterface>
    </joint>
    <actuator name="FR_calf_motor">
      <hardwareInterface>hardware_interface/EffortJointInterface</hardwareInterface>
      <mechanicalReduction>1</mechanicalReduction>
    </actuator>
  </transmission>
  <joint name="hokuyo_joint" type="fixed">
    <origin rpy="0 0 0" xyz="0.0 0.0 0.093"/>
    <parent link="trunk"/>
    <child link="hokuyo_frame"/>
  </joint>
  <link name="hokuyo_frame">
    <inertial>
      <mass value="0.270"/>
      <origin rpy="0 0 0" xyz="0 0 0"/>
      <inertia ixx="2.632e-4" ixy="0" ixz="0" iyy="2.632e-4" iyz="0" izz="1.62e-4"/>
    </inertial>
    <visual>
      <origin rpy="0 0 0" xyz="0 0 0"/>
      <geometry>
        <mesh filename="package://hector_sensors_description/meshes/hokuyo_utm30lx/hokuyo_utm_30lx.dae"/>
      </geometry>
    </visual>
    <collision>
      <origin rpy="0 0 0" xyz="0 0 -0.0115"/>
      <geometry>
        <box size="0.058 0.058 0.087"/>
        <!--<mesh filename="package://hector_sensors_description/meshes/hokuyo_utm30lx/hokuyo_utm_30lx.stl"/>-->
      </geometry>
    </collision>
  </link>
  <gazebo reference="hokuyo_frame">
    <sensor name="hokuyo" type="ray">
      <always_on>true</always_on>
      <update_rate>30</update_rate>
      <pose>0 0 0 0 0 0</pose>
      <visualize>false</visualize>
      <ray>
        <scan>
          <horizontal>
            <samples>1040</samples>
            <resolution>1</resolution>
            <min_angle>2.26892802759</min_angle>
            <max_angle>-2.26892802759</max_angle>
          </horizontal>
        </scan>
        <range>
          <min>0.2</min>
          <max>30.0</max>
          <resolution>0.01</resolution>
        </range>
        <noise>
          <type>gaussian</type>
          <mean>0.0</mean>
          <stddev>0.004</stddev>
        </noise>
      </ray>
      <plugin filename="libgazebo_ros_laser.so" name="gazebo_ros_hokuyo_controller">
        <topicName>scan</topicName>
        <frameName>hokuyo_frame</frameName>
      </plugin>
    </sensor>
  </gazebo>
  <gazebo reference="hokuyo_frame">
    <material>Gazebo/FlatBlack</material>
  </gazebo>
  <joint name="camera_joint" type="fixed">
    <origin rpy="0 0.261799612195482 0" xyz="0.1 0.0 -0.06"/>
    <parent link="trunk"/>
    <child link="camera_link"/>
  </joint>
  <link name="camera_link">
    <inertial>
      <mass value="0.200"/>
      <origin rpy="0 0 0" xyz="0 0 0"/>
      <inertia ixx="5.8083e-4" ixy="0" ixz="0" iyy="3.0833e-5" iyz="0" izz="5.9083e-4"/>
    </inertial>
    <visual>
      <origin rpy="0 0 0" xyz="0 0 0"/>
      <geometry>
        <mesh filename="package://hector_sensors_description/meshes/asus_camera/asus_camera_simple.dae"/>
      </geometry>
    </visual>
    <!--        
       <collision>
          <origin xyz="0 0 0" rpy="0 0 0" />
          <geometry>
            <box size="0.035 0.185 0.025"/>
          </geometry>
        </collision>
        -->
    <collision>
      <origin rpy="0 0 0" xyz="0 0 0"/>
      <geometry>
        <mesh filename="package://hector_sensors_description/meshes/asus_camera/asus_camera_simple.dae"/>
      </geometry>
    </collision>
  </link>
  <joint name="camera_depth_joint" type="fixed">
    <origin rpy="0 0 0" xyz="0.0 0.049 0.0"/>
    <parent link="camera_link"/>
    <child link="camera_depth_frame"/>
  </joint>
  <link name="camera_depth_frame"/>
  <joint name="camera_depth_optical_joint" type="fixed">
    <origin rpy="-1.57079632679 0.0 -1.57079632679" xyz="0 0 0"/>
    <parent link="camera_depth_frame"/>
    <child link="camera_depth_optical_frame"/>
  </joint>
  <link name="camera_depth_optical_frame"/>
  <joint name="camera_rgb_joint" type="fixed">
    <origin rpy="0 0 0" xyz="0.0 0.022 0.0"/>
    <parent link="camera_link"/>
    <child link="camera_rgb_frame"/>
  </joint>
  <link name="camera_rgb_frame"/>
  <joint name="camera_rgb_optical_joint" type="fixed">
    <origin rpy="-1.57079632679 0.0 -1.57079632679" xyz="0 0 0"/>
    <parent link="camera_rgb_frame"/>
    <child link="camera_rgb_optical_frame"/>
  </joint>
  <link name="camera_rgb_optical_frame"/>
  <!-- ASUS Xtion PRO camera for simulation -->
  <gazebo reference="camera_depth_frame">
    <sensor name="camera" type="depth">
      <update_rate>20</update_rate>
      <camera>
        <horizontal_fov>1.09606677025</horizontal_fov>
        <image>
          <format>R8G8B8</format>
          <width>640</width>
          <height>480</height>
        </image>
        <clip>
          <near>0.5</near>
          <far>9</far>
        </clip>
      </camera>
      <plugin filename="libgazebo_ros_openni_kinect.so" name="camera_camera_controller">
        <imageTopicName>camera/rgb/image_raw</imageTopicName>
        <cameraInfoTopicName>camera/rgb/camera_info</cameraInfoTopicName>
        <depthImageTopicName>camera/depth/image_raw</depthImageTopicName>
        <depthImageCameraInfoTopicName>camera/depth/camera_info</depthImageCameraInfoTopicName>
        <pointCloudTopicName>camera/depth/points</pointCloudTopicName>
        <frameName>camera_depth_optical_frame</frameName>
      </plugin>
    </sensor>
  </gazebo>
  <gazebo>
    <plugin filename="libhector_gazebo_ros_imu.so" name="imu_controller">
      <updateRate>50.0</updateRate>
      <bodyName>imu_link</bodyName>
      <topicName>imu/data</topicName>
      <accelDrift>0.005 0.005 0.005</accelDrift>
      <accelGaussianNoise>0.005 0.005 0.005</accelGaussianNoise>
      <rateDrift>0.005 0.005 0.005 </rateDrift>
      <rateGaussianNoise>0.005 0.005 0.005 </rateGaussianNoise>
      <headingDrift>0.005</headingDrift>
      <headingGaussianNoise>0.005</headingGaussianNoise>
    </plugin>
  </gazebo>
  <link name="imu_link">
    <inertial>
      <mass value="0.001"/>
      <origin rpy="0 0 0" xyz="0 0 0"/>
      <inertia ixx="1e-09" ixy="0.0" ixz="0.0" iyy="1e-09" iyz="0.0" izz="1e-09"/>
    </inertial>
  </link>
  <joint name="imu_joint" type="fixed">
    <parent link="trunk"/>
    <child link="imu_link"/>
  </joint>
  <!-- <xacro:include filename="$(find velodyne_description)/urdf/VLP-16.urdf.xacro"/>
    <xacro:VLP-16 parent="trunk" name="velodyne" topic="velodyne_points" hz="10" samples="1024" gpu="false" lasers="16" max_range="100">
        <origin xyz="0 0 ${base_z_length / 2}" rpy="0 0 0" />
    </xacro:VLP-16>

    <xacro:include filename="$(find champ_arm_description)/urdf/champ_arm.urdf.xacro" />
    <xacro:champ_arm parent="trunk">
        <origin xyz="0.07 0.0 ${base_z_length / 2}" rpy="0 0 0"/>
    </xacro:champ_arm> -->
</robot>
